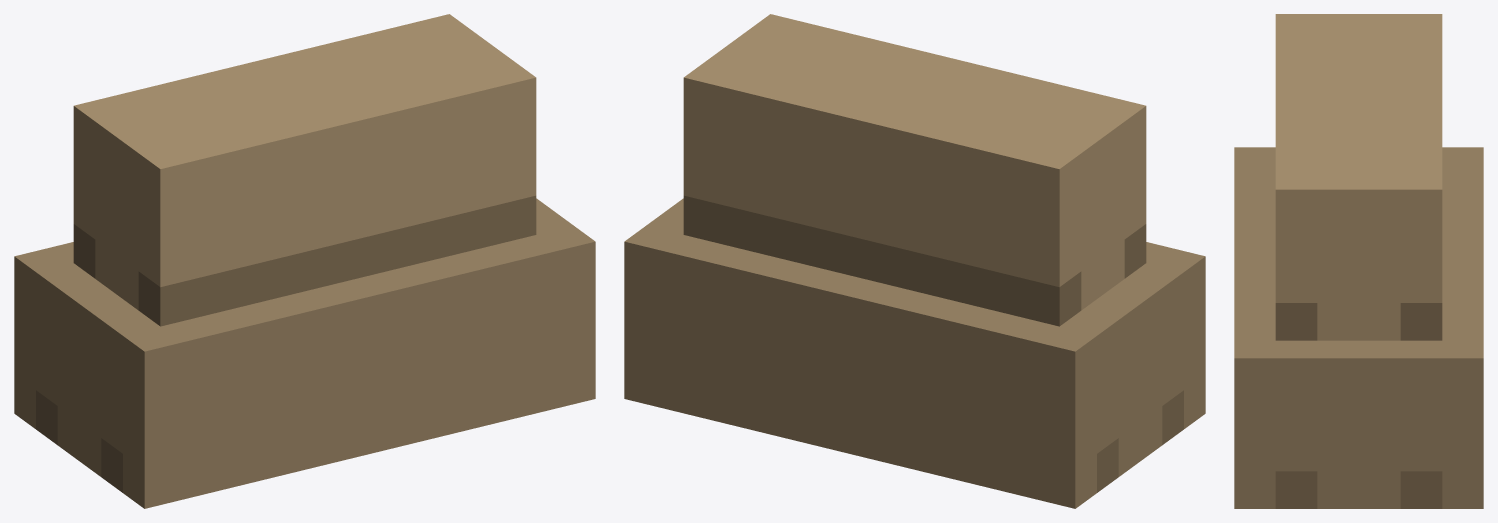
The model's file is lena_apilada_01.glb.
The picture shows the model from 3 angles, left to right: view 1: azimuth 30°, elevation 25°; view 2: azimuth 150°, elevation 25°; view 3: azimuth 270°, elevation 25°; orthographic projection. The views are drawn at different scales.
Visible parts, largest first — view 1: lena_apilada_01; view 2: lena_apilada_01; view 3: lena_apilada_01.
Boxes of the visible parts, box(x1,y1,x2,y2) form: lena_apilada_01: box(14, 14, 595, 508); lena_apilada_01: box(624, 14, 1205, 508); lena_apilada_01: box(1234, 14, 1483, 508).
Bounding box in the file's own units: 1.2 × 0.8 × 0.6.
